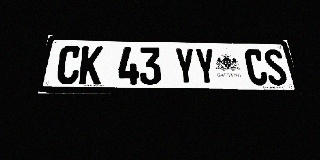3: (140, 47, 161, 85)
4: (118, 47, 140, 85)
C: (55, 46, 82, 85), (244, 49, 269, 85)
K: (78, 46, 103, 85)
S: (262, 49, 289, 85)
Y: (194, 48, 217, 85), (174, 48, 196, 85)
